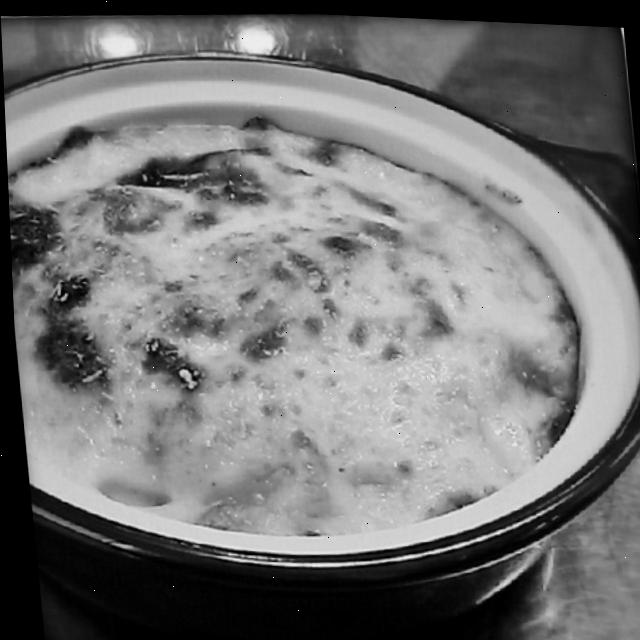米饭主食: (2, 67, 591, 567)
